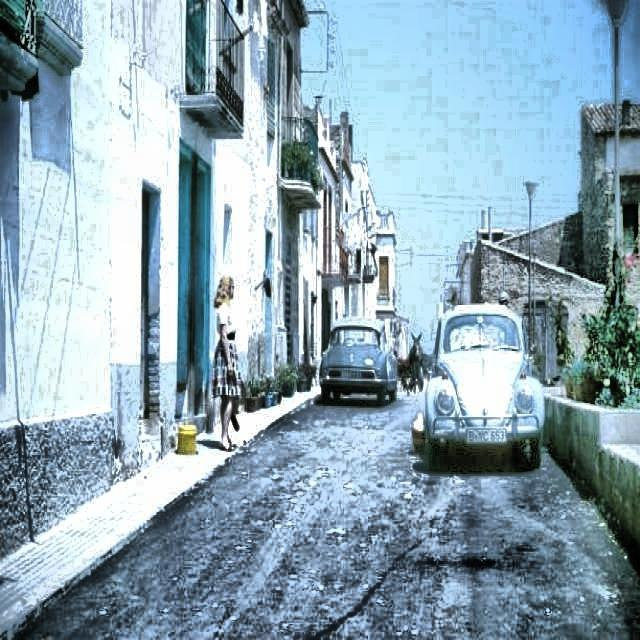carro: (424, 308, 546, 459), (321, 322, 393, 399)
